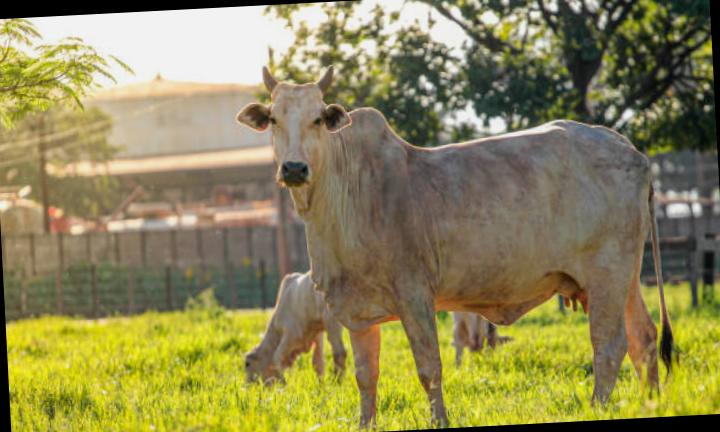Brahman: (236, 68, 658, 422)
